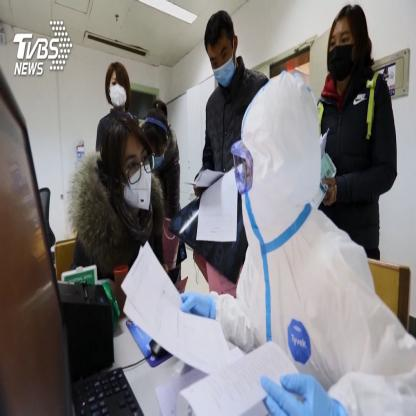Wearing_Mask: (122, 148, 152, 214), (326, 27, 354, 83), (210, 40, 234, 88), (106, 76, 127, 109)
